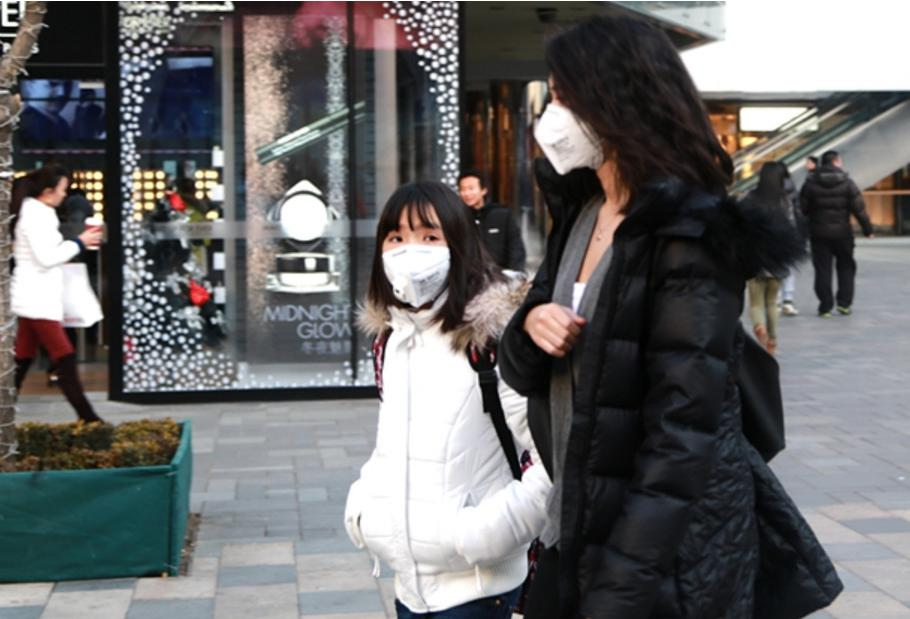NONE: (546, 77, 624, 172), (460, 183, 482, 208)
OK: (385, 220, 454, 301)
